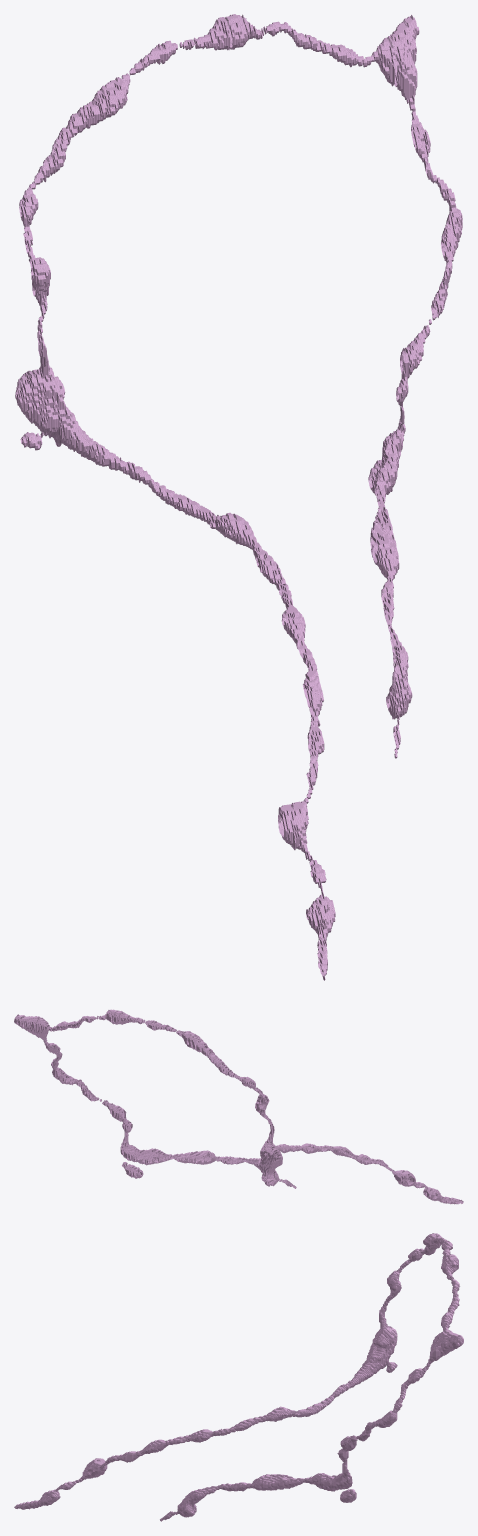
Rendered from SVV_RICL.gltf.
3 renders of one model, top to bottom at view 1: azimuth 30°, elevation 25°; view 2: azimuth 150°, elevation 25°; view 3: azimuth 270°, elevation 25°, orthographic. The views are drawn at different scales.
Parts seen in each view (by area): view 1: RICL; view 2: RICL; view 3: RICL.
Part boxes in pixels (x1,y1,x2,y2): RICL: (15, 14, 462, 980); RICL: (14, 1009, 463, 1204); RICL: (14, 1233, 463, 1521).
Size of the model in its own units: 120585 by 139872 by 171654.
